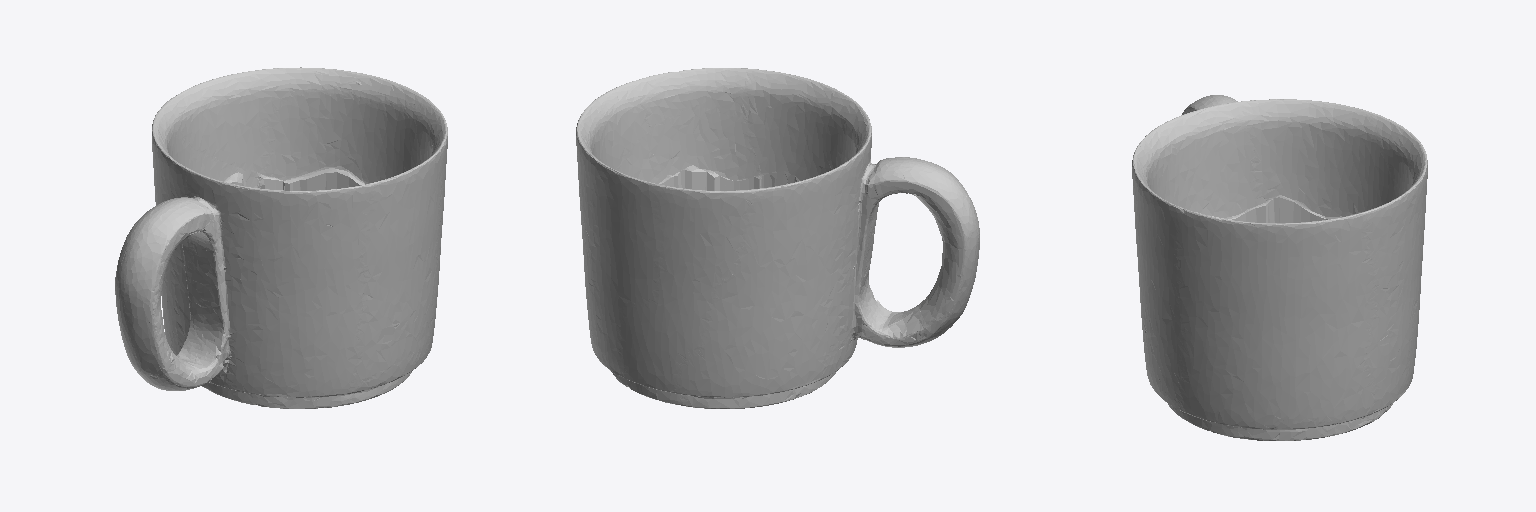
3 views of the same model, side by side, from view 1: azimuth 30°, elevation 25°; view 2: azimuth 150°, elevation 25°; view 3: azimuth 270°, elevation 25° (orthographic).
Visible parts, largest first — view 1: [number redacted]_4_beizi3; view 2: [number redacted]_4_beizi3; view 3: [number redacted]_4_beizi3.
Boxes of the visible parts, x1,y1,x2,y2 form: [number redacted]_4_beizi3: [115, 67, 447, 408]; [number redacted]_4_beizi3: [576, 68, 979, 408]; [number redacted]_4_beizi3: [1132, 95, 1427, 440].
Size of the model in its own units: 0.107 by 0.0692 by 0.0796.